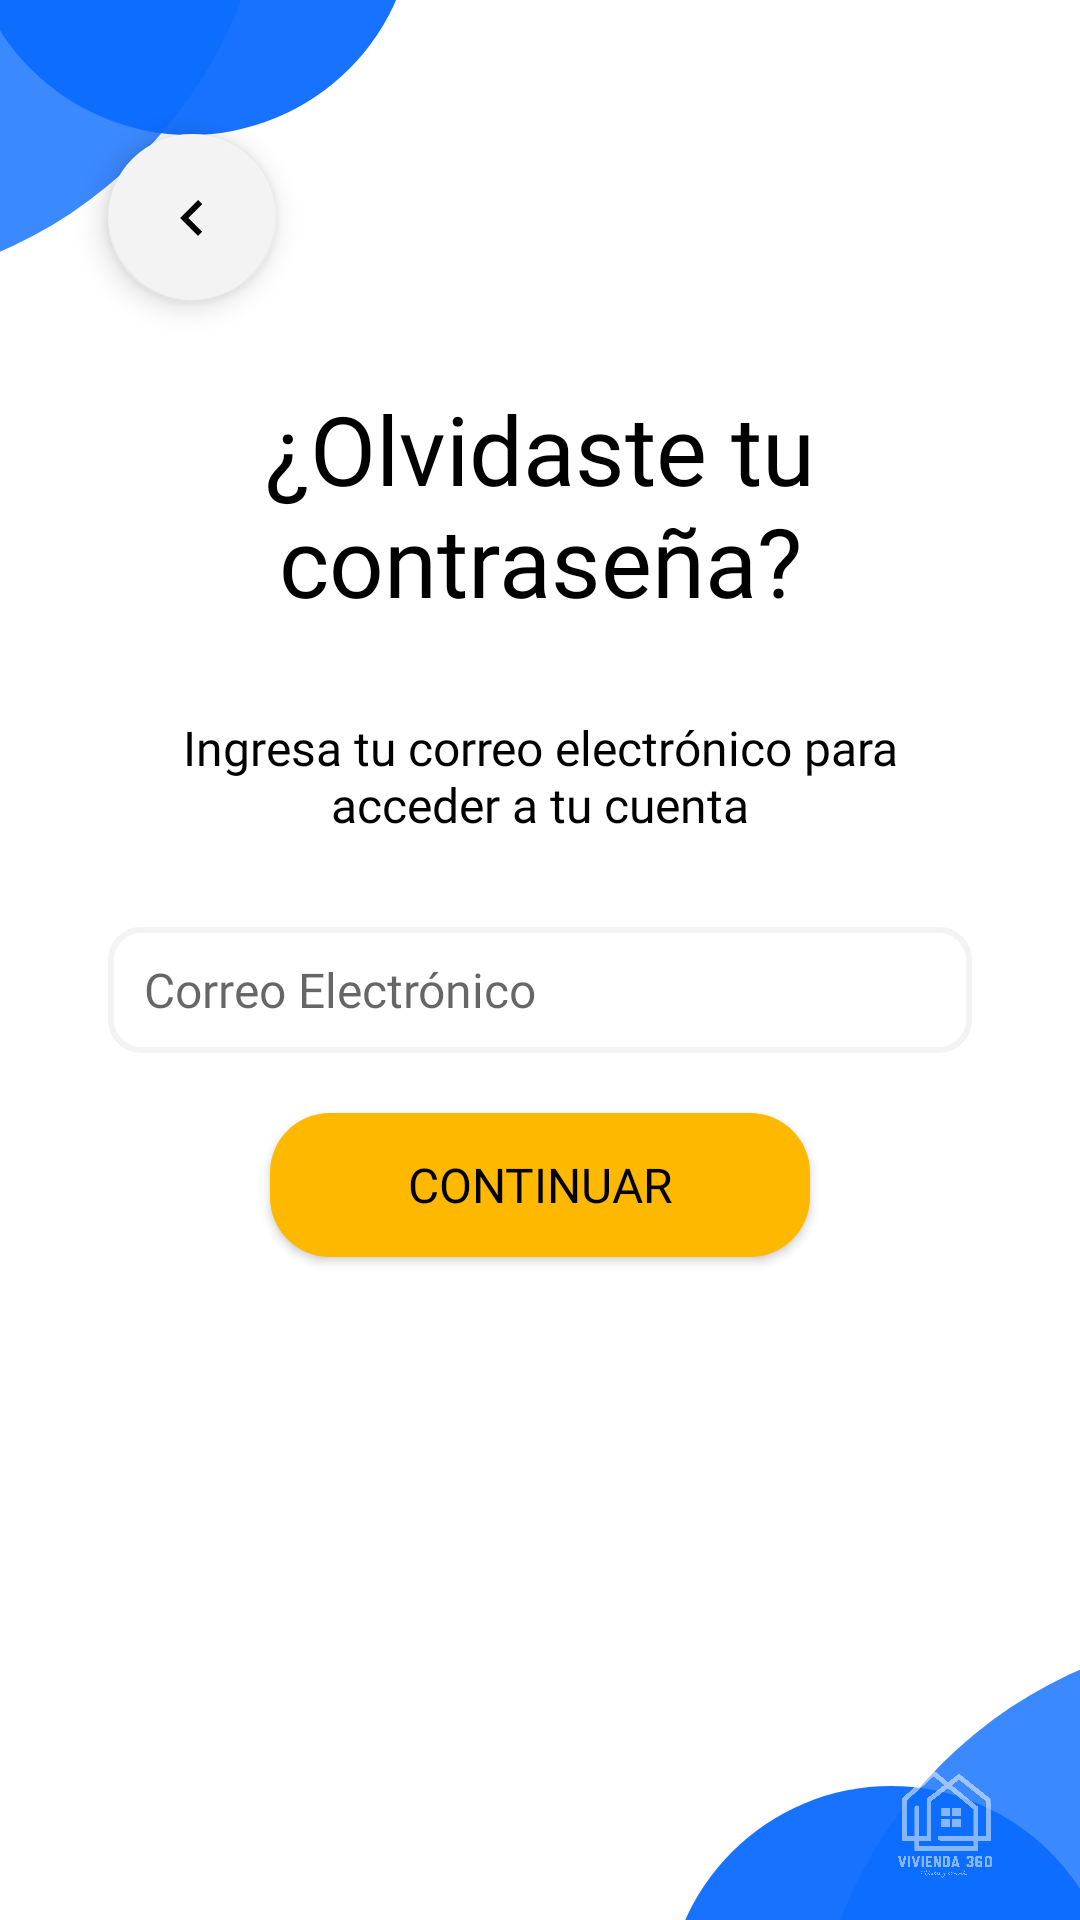

Icon bounding boxes for this 1080px×1920px phone screenshot, format (x1, y1, x2, y2):
back: (108, 134, 276, 302)
